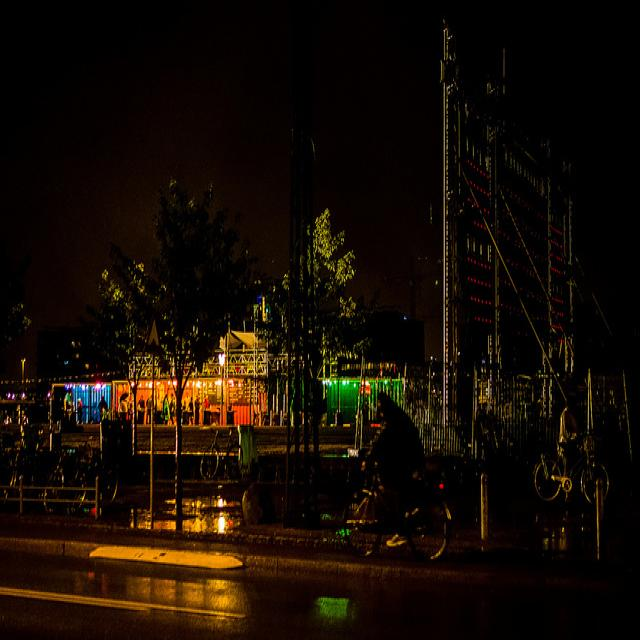Bicycle: (324, 455, 477, 592), (504, 434, 635, 527)
People: (365, 375, 413, 493), (551, 395, 593, 470)
